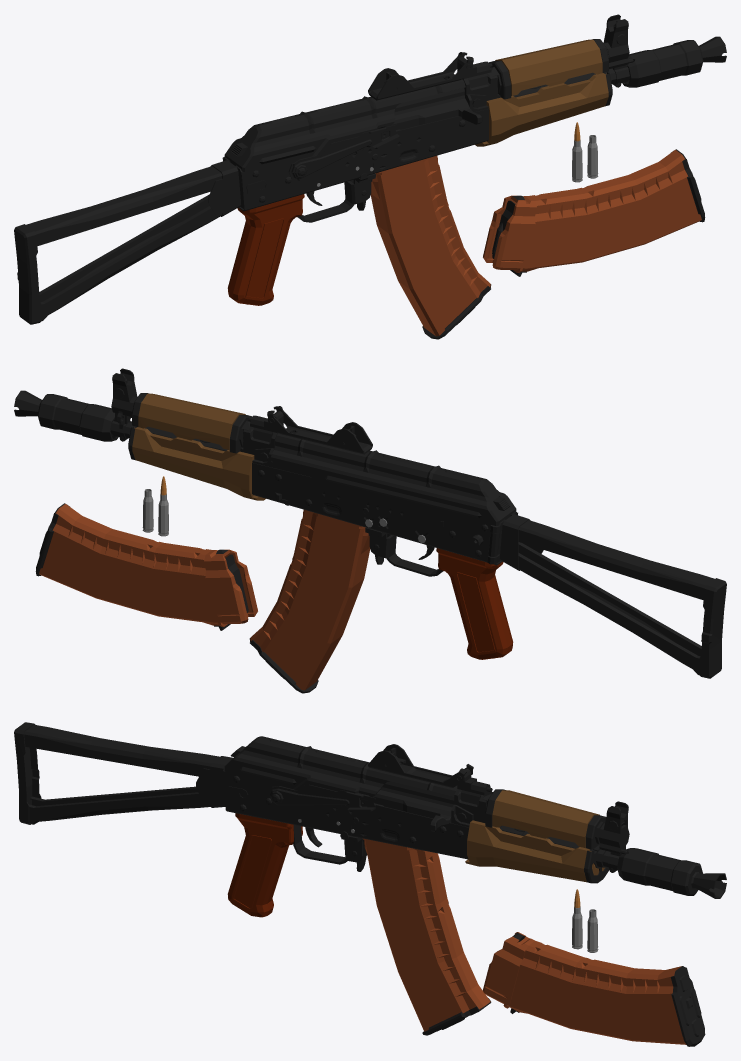
The model's file is low-poly_aks-74u.glb.
3 views of the same model, one above another, from view 1: azimuth 30°, elevation 25°; view 2: azimuth 150°, elevation 25°; view 3: azimuth 330°, elevation 25° (orthographic).
Visible parts, largest first — view 1: ak74 30rnd empty bakelite mag_8, aks74u stock_14, ak74 30rnd bakelite mag_7, aks74u receiver_13, aks74u dust cover_11, aks74u handguard_12, aks74u grip_2, aks74u flash hider_15, aks74u bolt_10, aks74u selector_1, aks74u barrel_9; view 2: ak74 30rnd empty bakelite mag_8, aks74u stock_14, ak74 30rnd bakelite mag_7, aks74u receiver_13, aks74u dust cover_11, aks74u handguard_12, aks74u grip_2, aks74u flash hider_15, aks74u barrel_9; view 3: ak74 30rnd empty bakelite mag_8, ak74 30rnd bakelite mag_7, aks74u receiver_13, aks74u stock_14, aks74u handguard_12, aks74u dust cover_11, aks74u grip_2, aks74u flash hider_15, aks74u barrel_9, aks74u bolt_10, aks74u selector_1.
Boxes of the visible parts, x1,y1,x2,y2 form: ak74 30rnd empty bakelite mag_8: [483, 149, 705, 276]; aks74u stock_14: [14, 160, 240, 324]; ak74 30rnd bakelite mag_7: [370, 155, 491, 339]; aks74u receiver_13: [222, 39, 609, 222]; aks74u dust cover_11: [224, 52, 473, 171]; aks74u handguard_12: [475, 39, 608, 146]; aks74u grip_2: [227, 194, 304, 305]; aks74u flash hider_15: [622, 36, 726, 87]; aks74u bolt_10: [378, 83, 497, 129]; aks74u selector_1: [288, 124, 399, 180]; aks74u barrel_9: [513, 14, 633, 106]; ak74 30rnd empty bakelite mag_8: [35, 503, 257, 630]; aks74u stock_14: [488, 514, 726, 678]; ak74 30rnd bakelite mag_7: [249, 509, 370, 693]; aks74u receiver_13: [131, 393, 517, 576]; aks74u dust cover_11: [267, 406, 516, 525]; aks74u handguard_12: [132, 393, 265, 500]; aks74u grip_2: [436, 548, 513, 659]; aks74u flash hider_15: [14, 390, 118, 441]; aks74u barrel_9: [110, 368, 227, 460]; ak74 30rnd empty bakelite mag_8: [483, 932, 705, 1046]; ak74 30rnd bakelite mag_7: [362, 838, 491, 1035]; aks74u receiver_13: [222, 746, 606, 864]; aks74u stock_14: [14, 722, 233, 824]; aks74u handguard_12: [465, 790, 604, 882]; aks74u dust cover_11: [224, 736, 473, 796]; aks74u grip_2: [227, 813, 302, 917]; aks74u flash hider_15: [617, 848, 726, 898]; aks74u barrel_9: [499, 801, 629, 883]; aks74u bolt_10: [361, 781, 454, 831]; aks74u selector_1: [269, 782, 375, 811].
Size of the model in its own units: 7.24 by 2.71 by 0.643.
